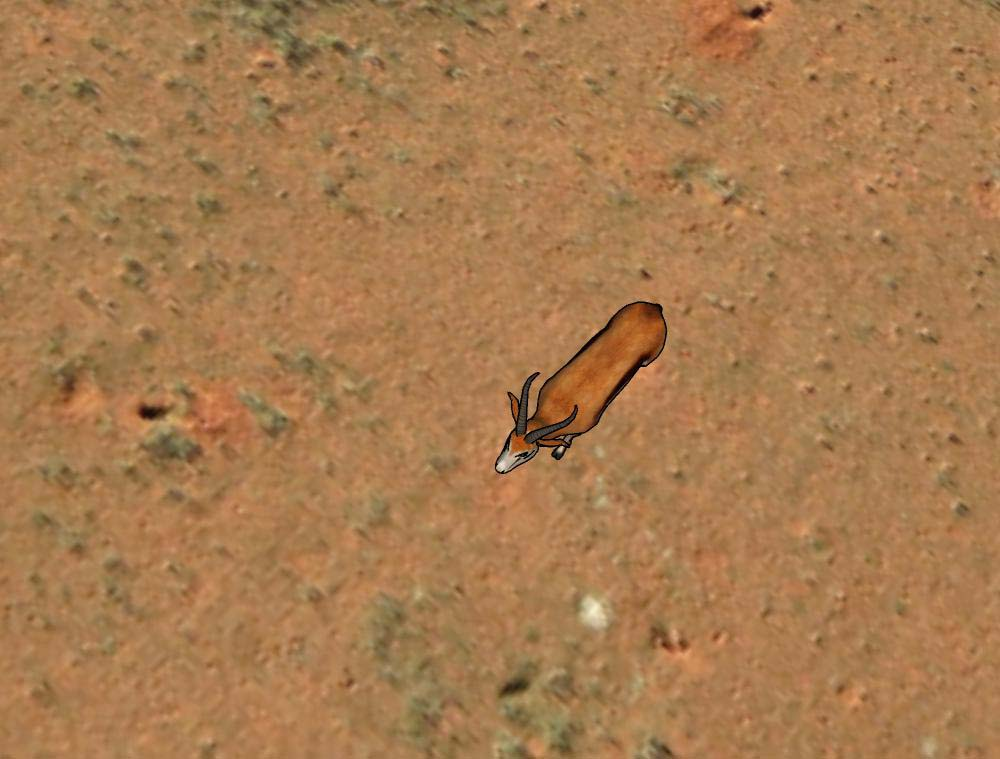springbok: (492, 297, 672, 479)
